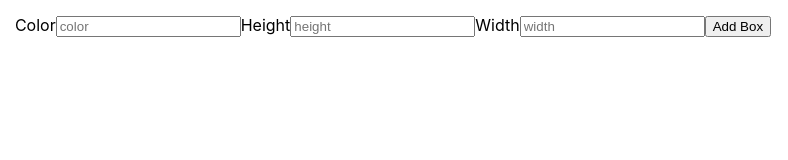
Scenario: should remove a box
Expected: the text "Delete Box" is not shown
In the field labelled "Color": (148, 26) [56,16,241,37], type "green"
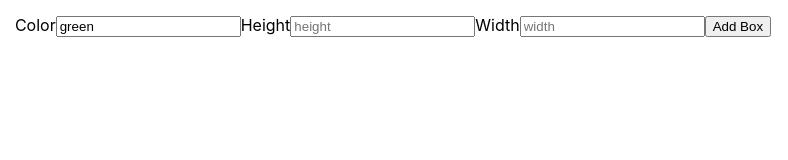
In the field labelled "Height": (383, 26) [290,16,475,37], type "10"
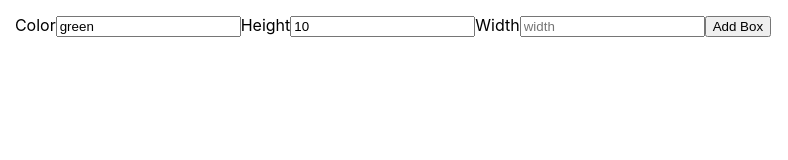
In the field labelled "Width": (612, 26) [520,16,705,37], type "20"
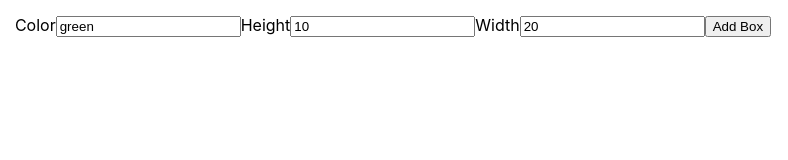
Click the button "Add Box": (738, 26) [705,16,771,37]
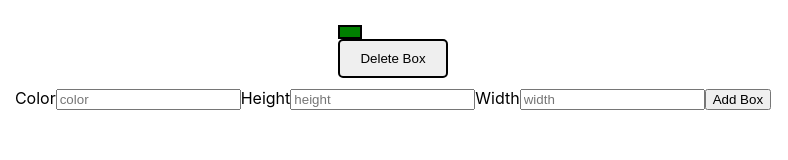
Now the button "Delete Box" is shown
Click the button "Delete Box": (393, 58) [338,39,448,78]
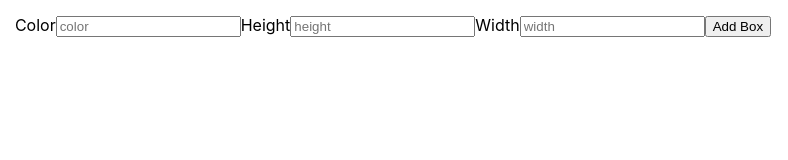
Now the button "Delete Box" is gone
